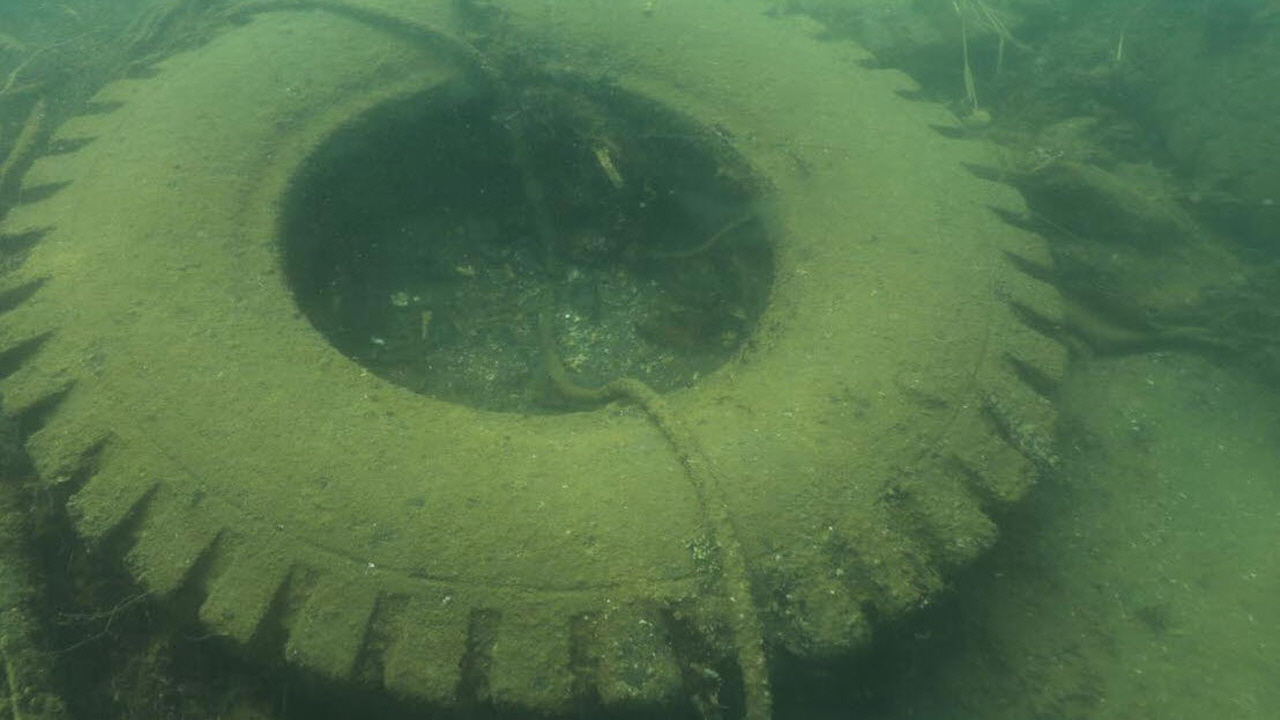rope: (243, 0, 774, 720)
tire: (0, 0, 1066, 720)
